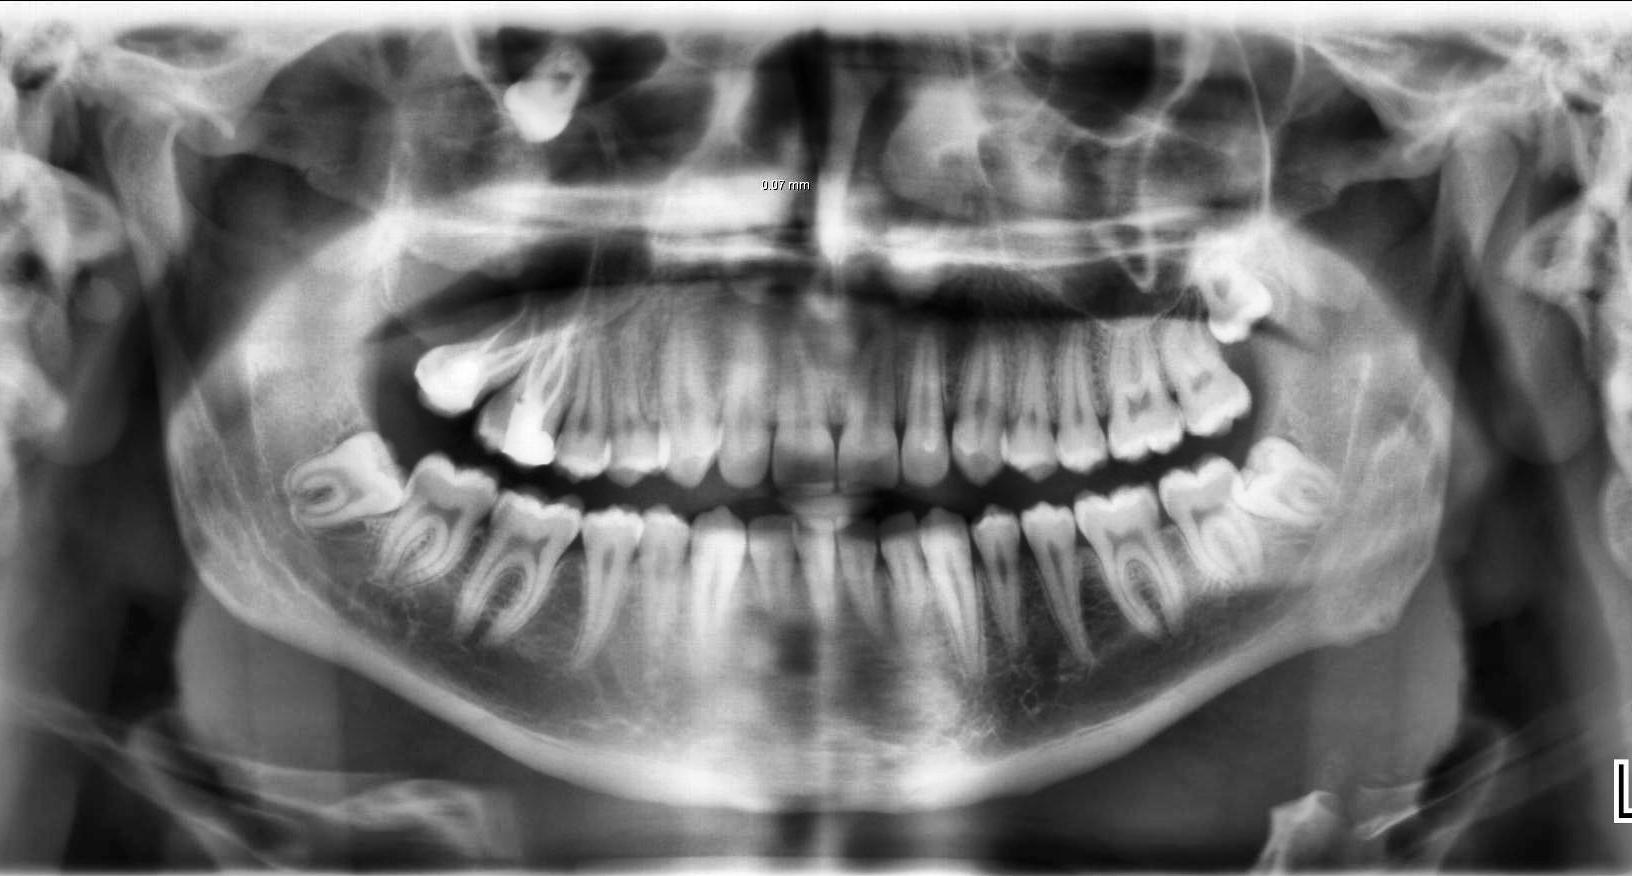keratokist: (355, 73, 611, 348)
